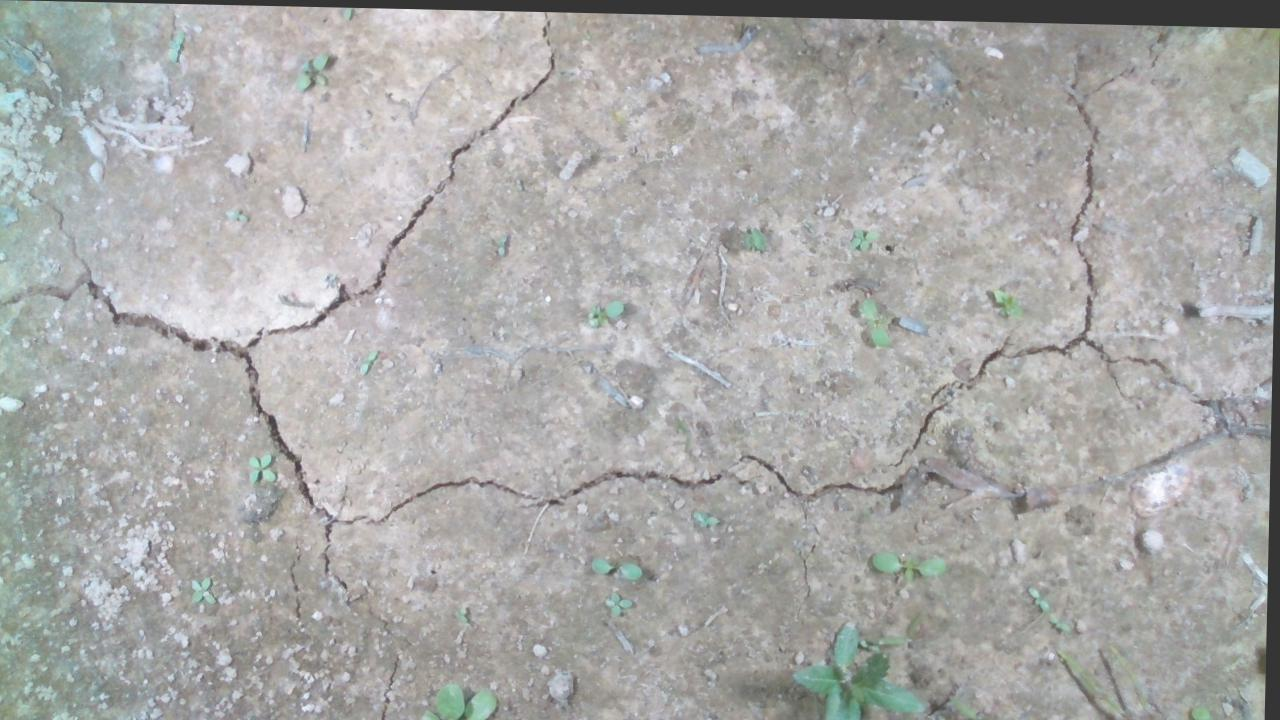weed: (849, 289, 919, 341), (589, 545, 671, 584), (868, 545, 950, 577), (721, 215, 785, 255), (238, 453, 291, 499), (986, 282, 1039, 320), (183, 570, 227, 609), (297, 50, 334, 91), (842, 217, 890, 247), (595, 588, 650, 613), (578, 297, 642, 318), (1022, 575, 1059, 606), (215, 199, 254, 224), (689, 500, 723, 521)
